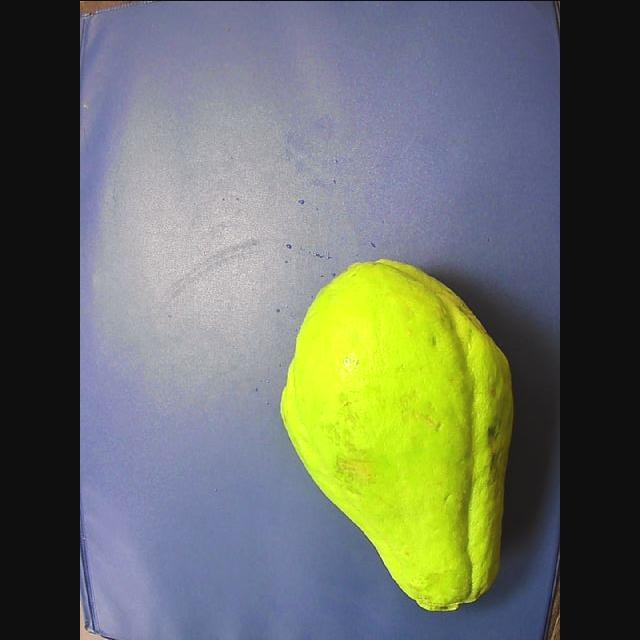chayote: (281, 259, 512, 609)
